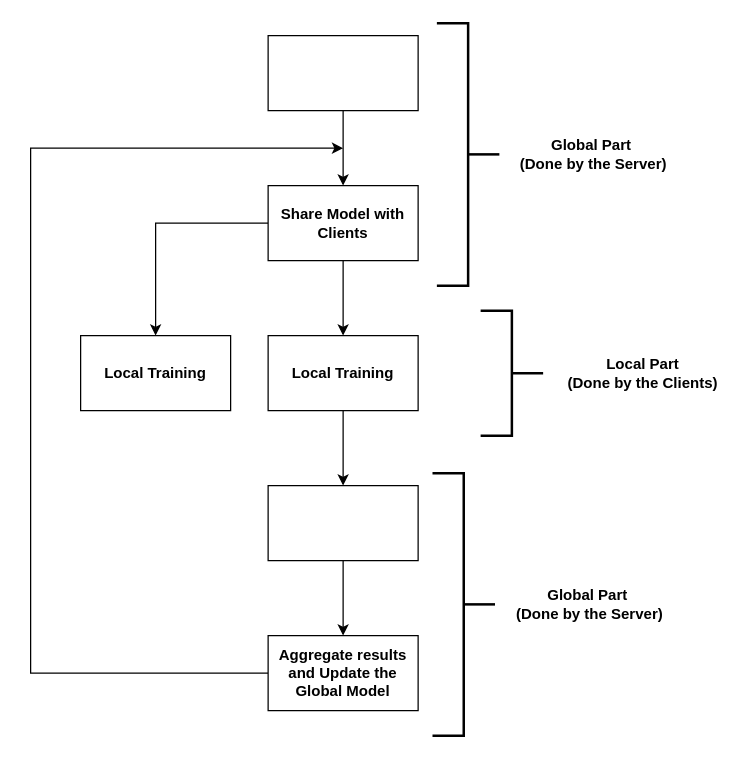
The diagram is 753 pixels wide and 758 high, and some of its shapes have lost their labels. The shapes that lost their labels are listed below. From the top down, each one's box as (x1, y1, x2, y2) in pixels, then its label:
(267, 34, 418, 111): Initialize Model in Global Server
(267, 484, 418, 561): Collect Local Training Updates
